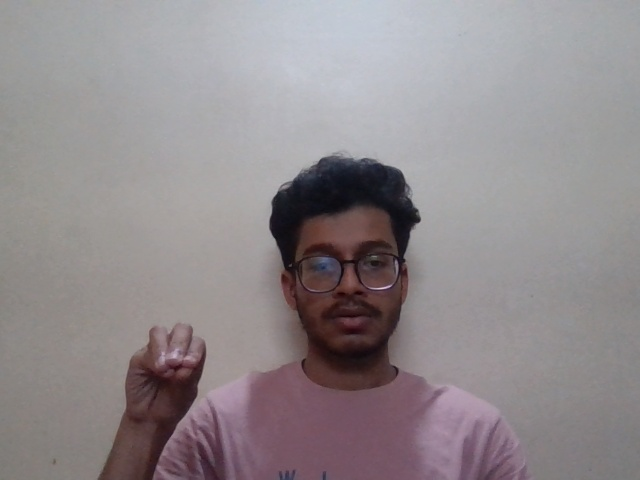talk: (123, 322, 219, 440)
